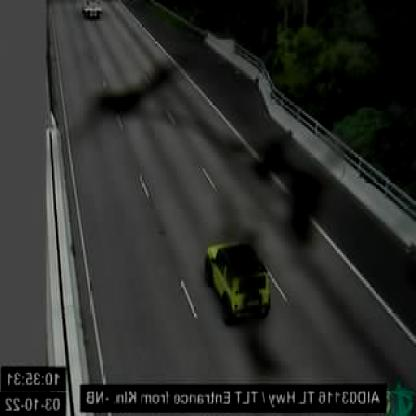Car: (204, 241, 270, 321)
